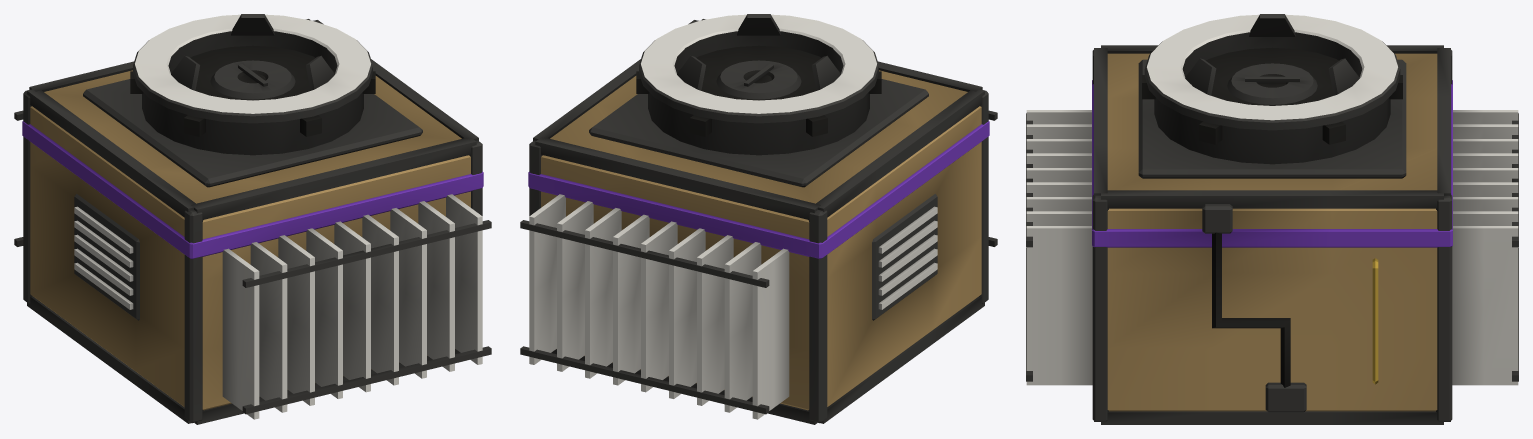
Rendered from battery-pack.glb.
The picture shows the model from 3 angles, left to right: view 1: azimuth 30°, elevation 25°; view 2: azimuth 150°, elevation 25°; view 3: azimuth 270°, elevation 25°; orthographic projection. The views are drawn at different scales.
Parts seen in each view (by area): view 1: body; view 2: body; view 3: body.
Boxes of the visible parts, bbox=[...] form: body: bbox=[14, 14, 491, 424]; body: bbox=[520, 14, 997, 424]; body: bbox=[1026, 14, 1518, 424].
Bounding box in the file's own units: 2.74 × 2.66 × 3.59.
